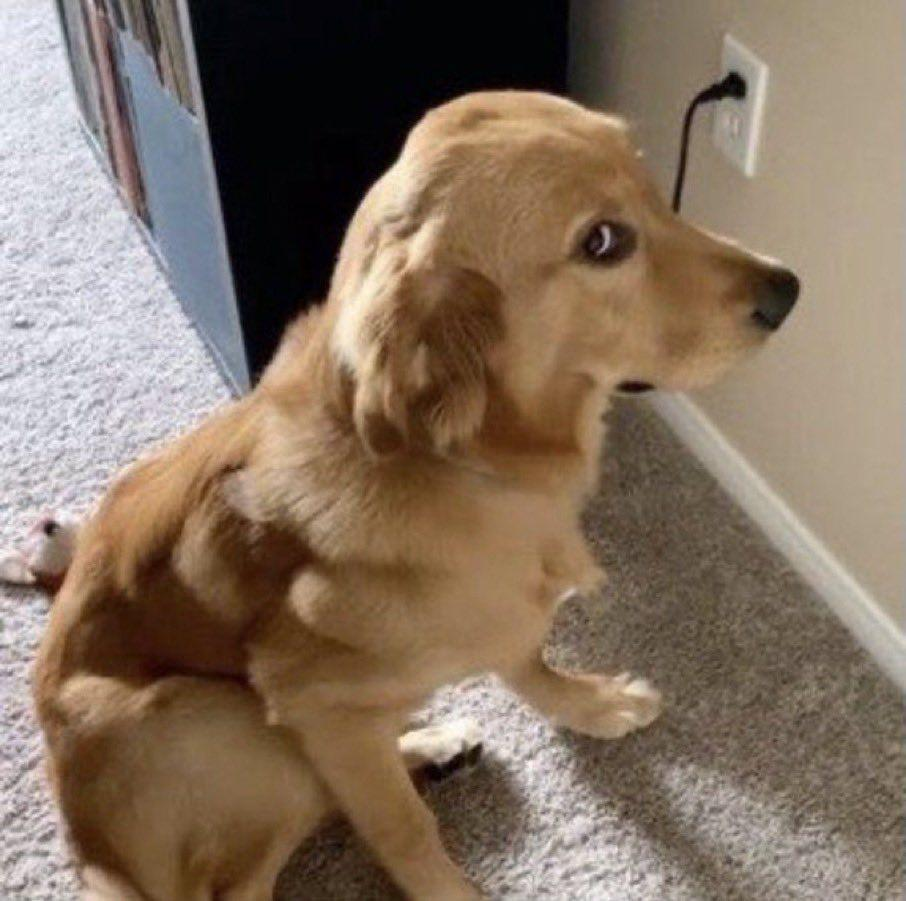adult_dog: (31, 91, 802, 901)
